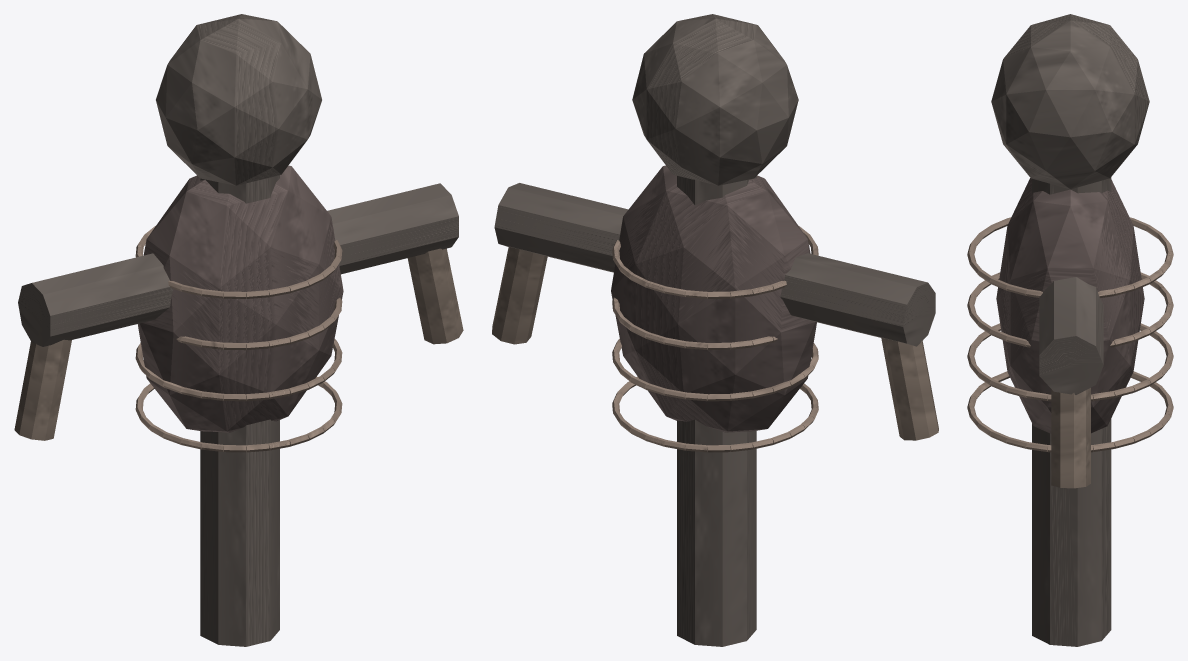
The model's file is training_dummy.glb.
3 views of the same model, side by side, from view 1: azimuth 30°, elevation 25°; view 2: azimuth 150°, elevation 25°; view 3: azimuth 270°, elevation 25° (orthographic).
Visible parts, largest first — view 1: wood, leather, brown, bronze; view 2: wood, leather, brown, bronze; view 3: wood, leather, bronze, brown.
Part boxes in pixels (left/top/right/bottom): wood: left=18, top=14, right=458, bottom=646; leather: left=137, top=165, right=343, bottom=432; brown: left=14, top=248, right=463, bottom=440; bronze: left=135, top=226, right=342, bottom=452; wood: left=494, top=14, right=935, bottom=646; leather: left=611, top=165, right=816, bottom=432; brown: left=492, top=247, right=938, bottom=440; bronze: left=612, top=226, right=818, bottom=452; wood: left=991, top=14, right=1149, bottom=646; leather: left=996, top=178, right=1144, bottom=433; bronze: left=967, top=217, right=1173, bottom=452; brown: left=1051, top=388, right=1090, bottom=488.
Size of the model in its own units: 1.99 by 2.63 by 0.8078.
Materials: 4 (4 with a texture image).
